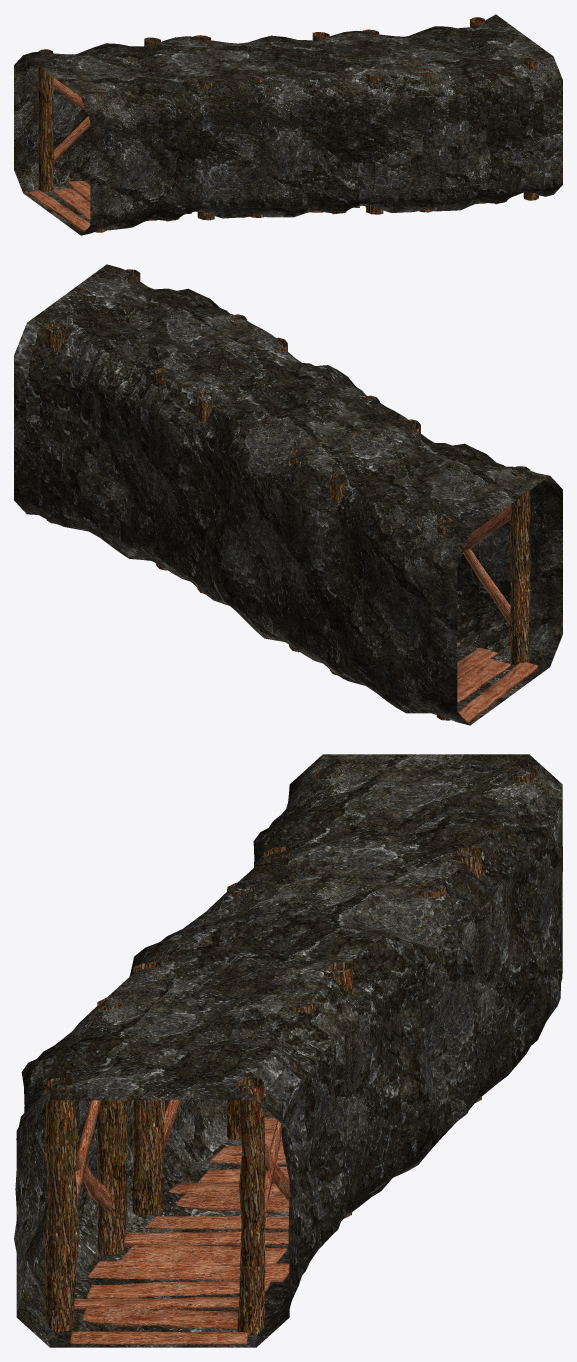
File: Cave_099.fbx
3 renders of one model, top to bottom at view 1: azimuth 30°, elevation 25°; view 2: azimuth 150°, elevation 25°; view 3: azimuth 270°, elevation 25°, orthographic. The views are drawn at different scales.
Parts seen in each view (by area): view 1: Cave.099; view 2: Cave.099; view 3: Cave.099.
Part boxes in pixels (x1=…): Cave.099: x1=14, y1=14, x2=562, y2=235; Cave.099: x1=14, y1=264, x2=562, y2=725; Cave.099: x1=14, y1=754, x2=562, y2=1347.
Bounding box in the file's own units: 900 × 313 × 603.
